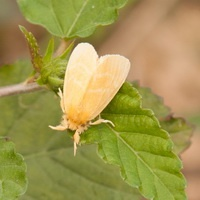insect: (49, 43, 129, 155)
